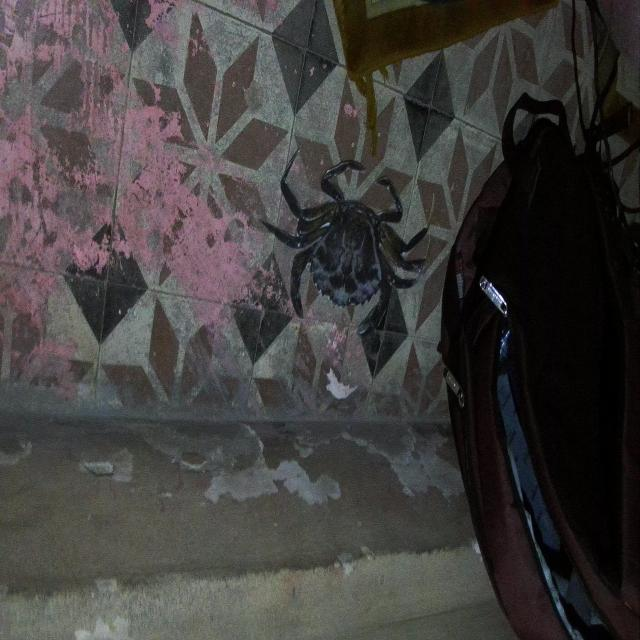European_Green_Crab: (261, 121, 437, 366)
